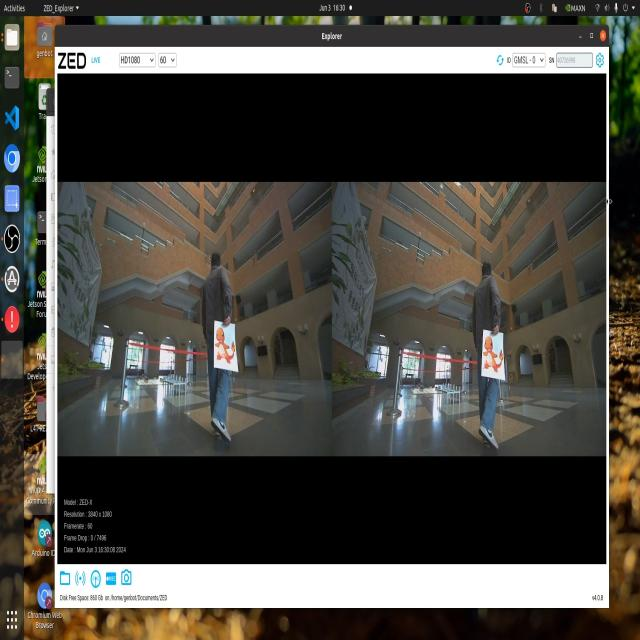red: (216, 320, 241, 369), (481, 338, 507, 380)
